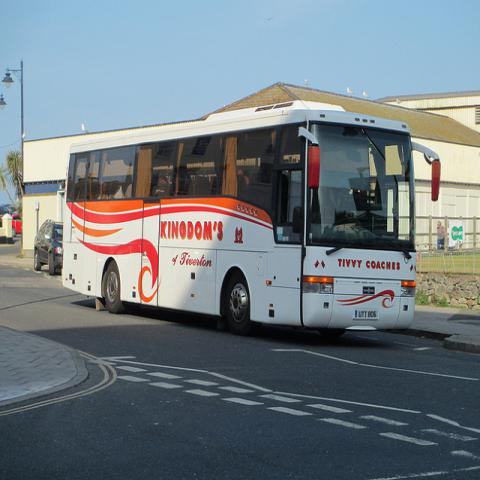bus: (60, 97, 441, 338)
car: (34, 218, 64, 276)
